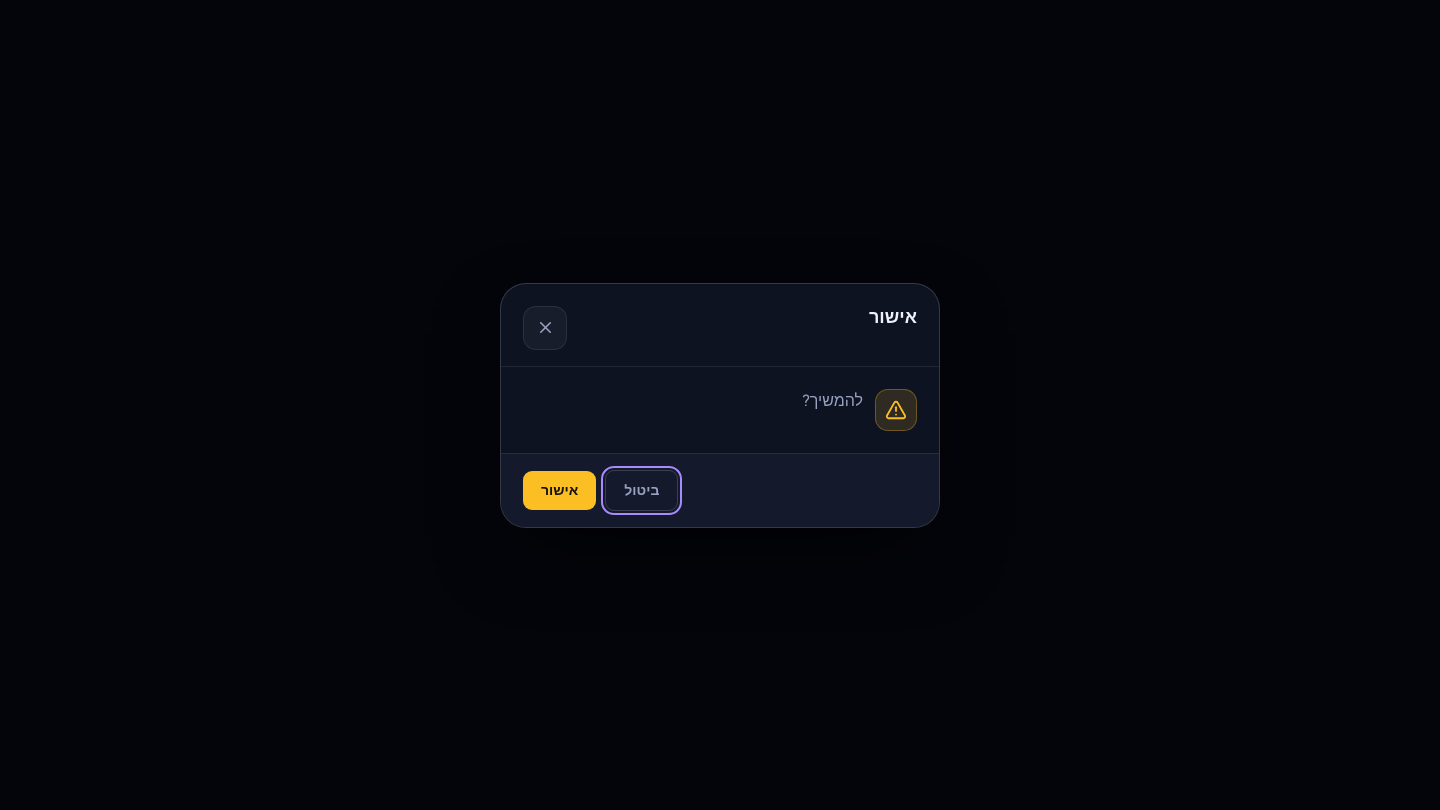
ConfirmDialog › keeps the dialog open and shows a safe error when async confirmation fails
Step 1. Click the button "אישור" → x=560, y=490, box [523,470,596,510]
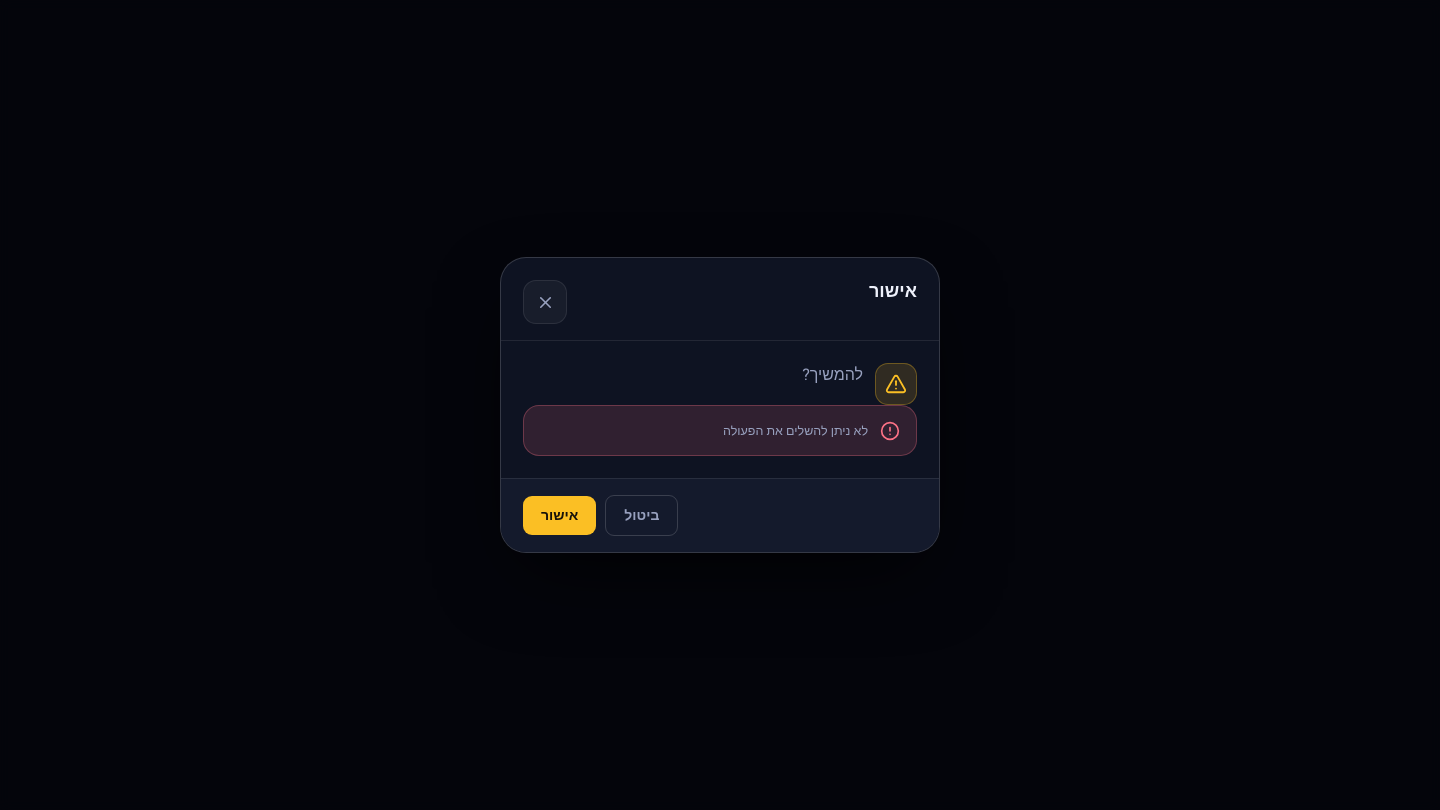
Check: the dialog is shown, box [500,257,940,553]
Check: the message reads "לא ניתן להשלים את הפעולה", box [723,422,868,440]
